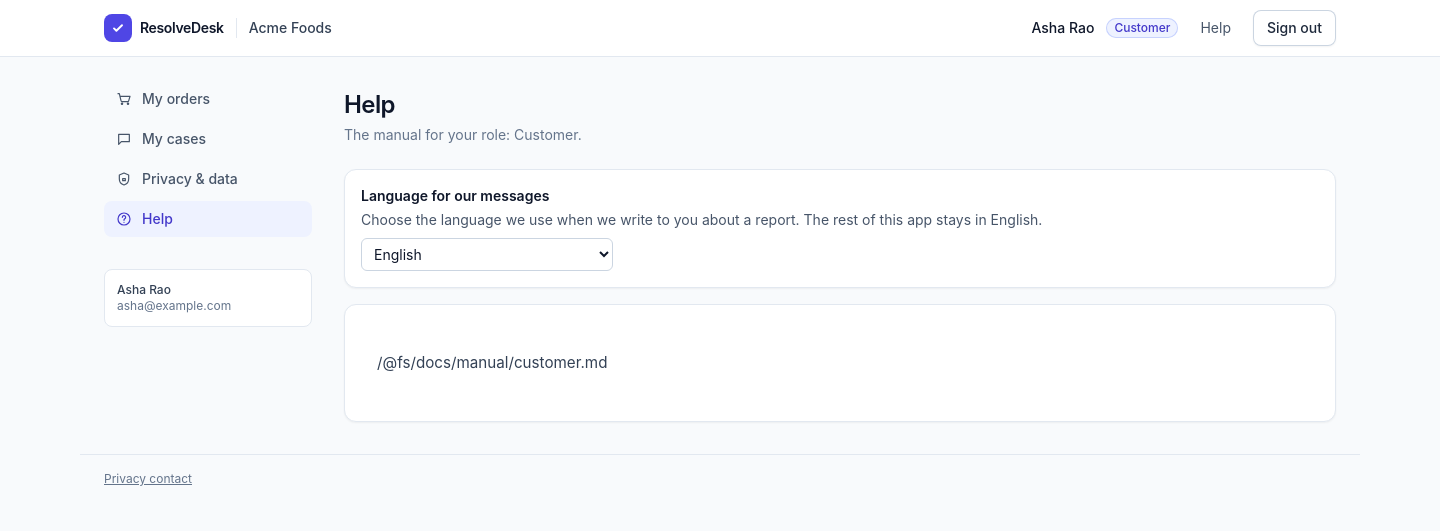
it: language selector › shows an error and keeps the old choice when saving fails
Select "Hinglish (Hindi in English letters)" in the dropdown named "Language for our messages" at (487, 254), box [361, 238, 613, 271]
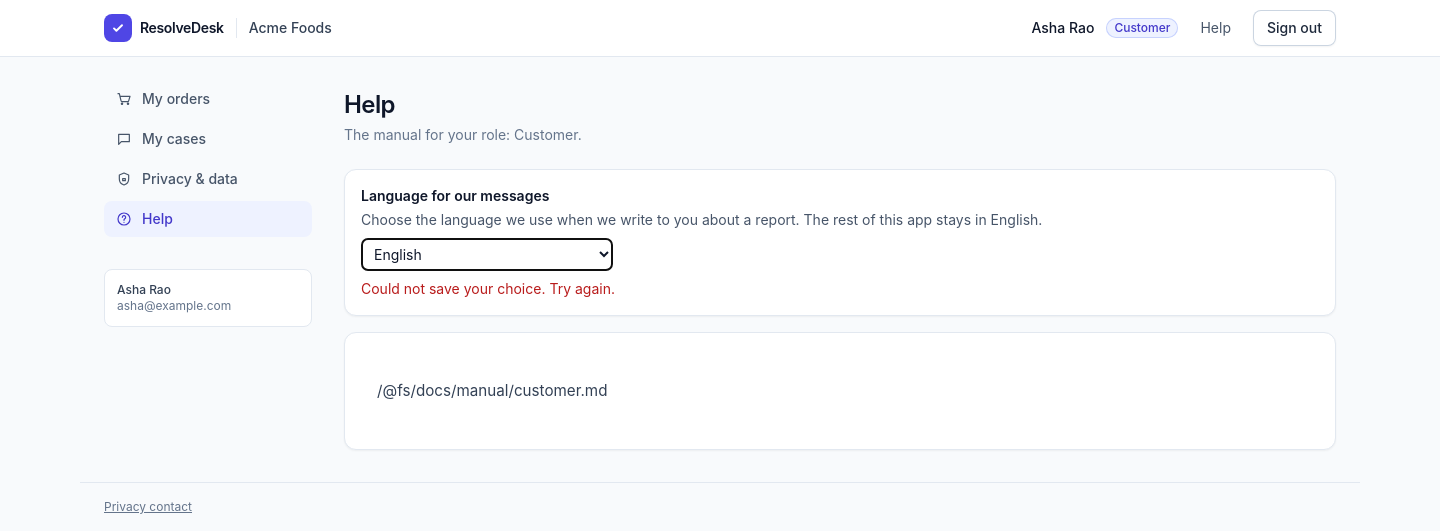
Result: the message shows "Could not save" at [361, 280, 615, 297]
